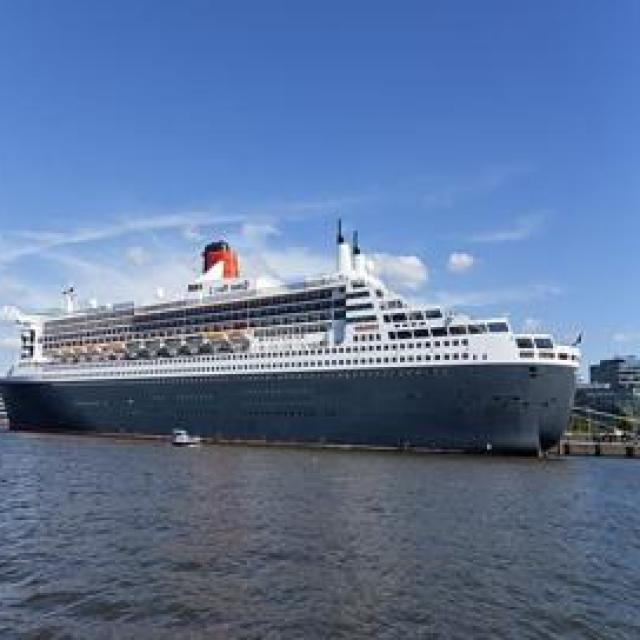passenger ship: (0, 225, 596, 449)
